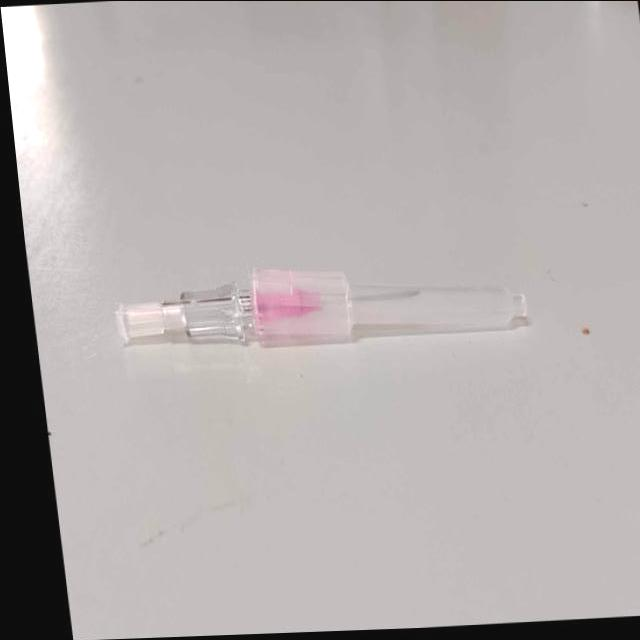Sharps: (113, 265, 529, 349)
